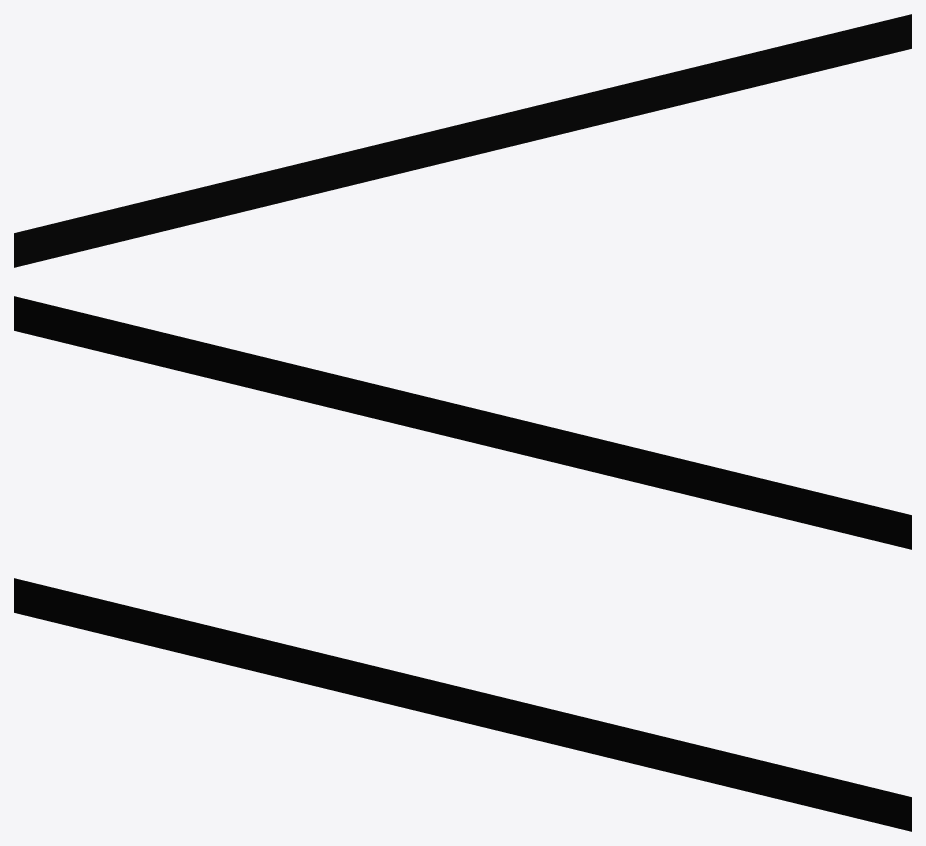
The model's file is LAKETOWN_PUB_PS_PUB_DIRT_LAYER_074746.fbx.
3 renders of one model, top to bottom at view 1: azimuth 30°, elevation 25°; view 2: azimuth 150°, elevation 25°; view 3: azimuth 330°, elevation 25°, orthographic.
Parts seen in each view (by area): view 1: LAKETOWN_PUB_PS_PUB_DIRT_LAYER_074746; view 2: LAKETOWN_PUB_PS_PUB_DIRT_LAYER_074746; view 3: LAKETOWN_PUB_PS_PUB_DIRT_LAYER_074746.
Boxes of the visible parts, box(x1,y1,x2,y2) form: LAKETOWN_PUB_PS_PUB_DIRT_LAYER_074746: box(14, 14, 911, 267); LAKETOWN_PUB_PS_PUB_DIRT_LAYER_074746: box(14, 296, 911, 549); LAKETOWN_PUB_PS_PUB_DIRT_LAYER_074746: box(14, 578, 911, 831).
Size of the model in its own units: 83440 by 3078 by 0.0066.
1 material, 1 textured.
